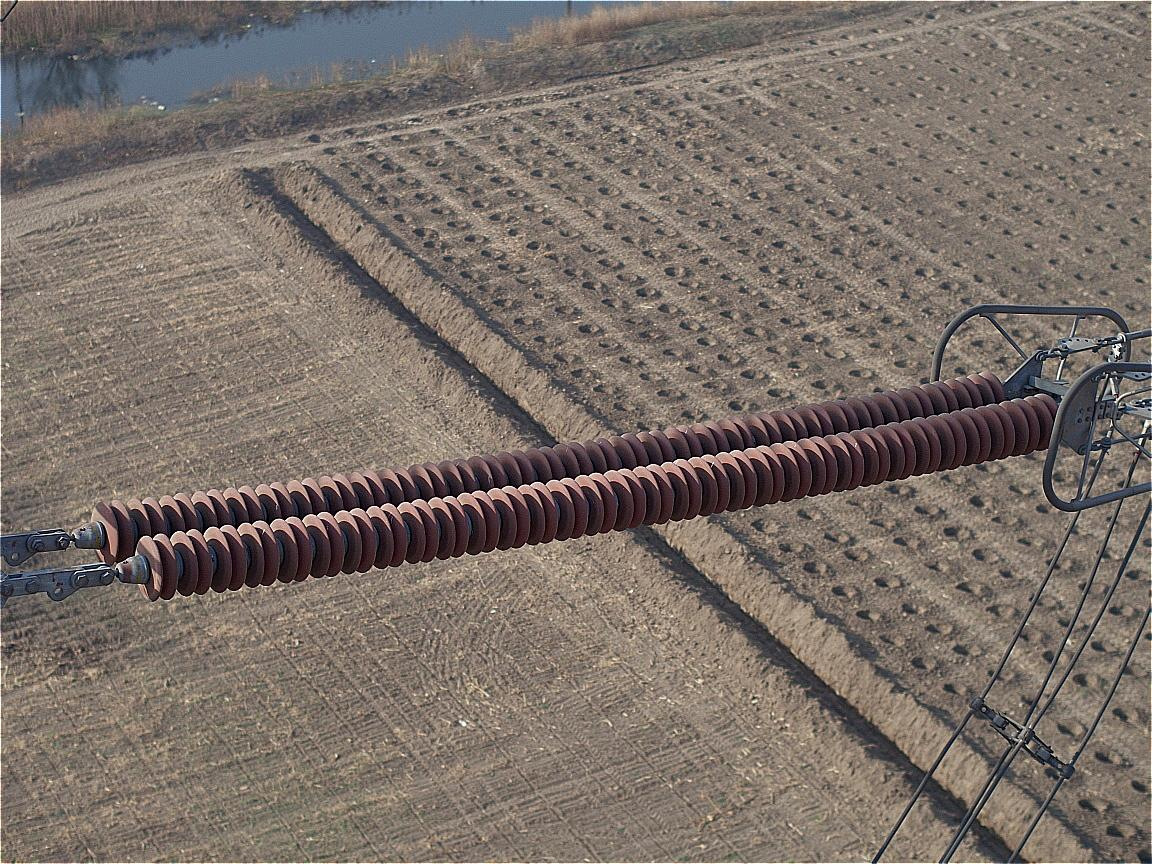insultor2: (88, 369, 1061, 603)
